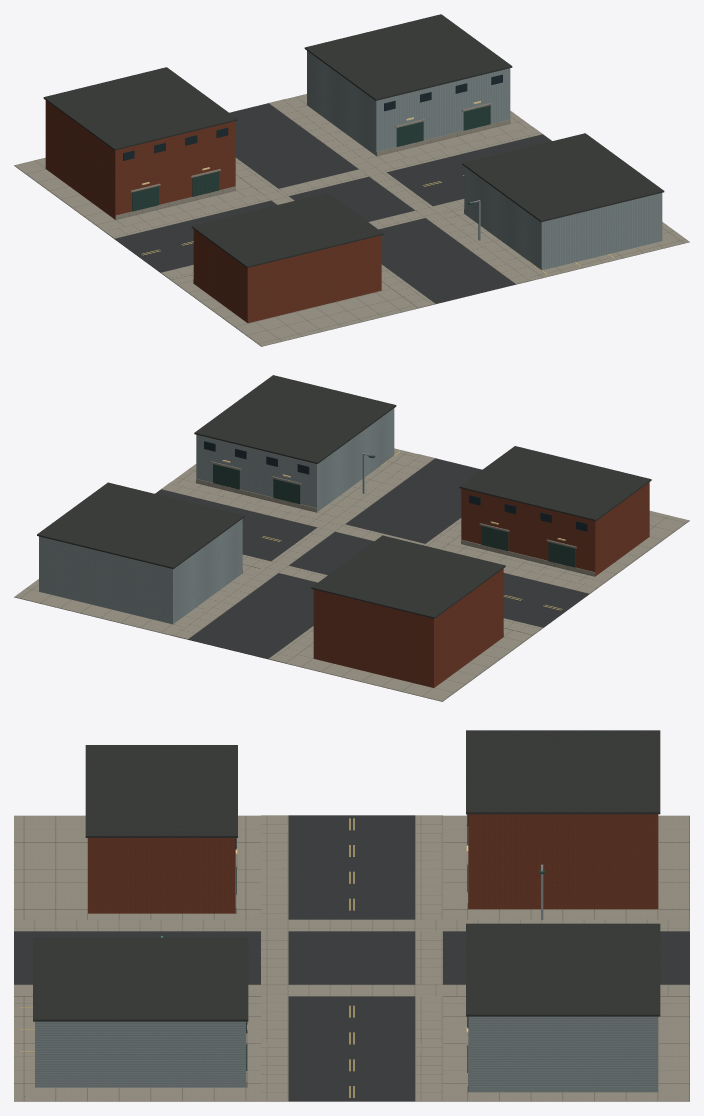
File: industrial_0_1.glb
3 renders of one model, top to bottom at view 1: azimuth 30°, elevation 25°; view 2: azimuth 150°, elevation 25°; view 3: azimuth 270°, elevation 25°, orthographic. The views are drawn at different scales.
Visible parts, largest first — view 1: Motor Works / North south street, Motor Works / Yard paving, Motor Works / Building 0 shell, Motor Works / Building 2 shell, Motor Works / Building 1 roof, Motor Works / Building 3 roof, Motor Works / Building 3 shell, Motor Works / Building 1 shell, Motor Works / Building 0 roof, Motor Works / Building 2 roof, Motor Works / East west street, Motor Works / Street walk X 1 (+9 smaller); view 2: Motor Works / North south street, Motor Works / Building 0 shell, Motor Works / Yard paving, Motor Works / Building 1 shell, Motor Works / Building 1 roof, Motor Works / Building 3 roof, Motor Works / Building 0 roof, Motor Works / Building 2 shell, Motor Works / Building 2 roof, Motor Works / Building 3 shell, Motor Works / East west street, Motor Works / Street walk X 1 (+9 smaller); view 3: Motor Works / Yard paving, Motor Works / East west street, Motor Works / Building 3 roof, Motor Works / Building 1 roof, Motor Works / Building 0 shell, Motor Works / Building 0 roof, Motor Works / Building 1 shell, Motor Works / Building 2 roof, Motor Works / Building 3 shell, Motor Works / North south street, Motor Works / Building 2 shell, Motor Works / Street walk Z -1 (+3 smaller).
Boxes of the visible parts, x1,y1,x2,y2 form: Motor Works / North south street: [229, 103, 515, 303]; Motor Works / Yard paving: [14, 94, 689, 346]; Motor Works / Building 0 shell: [45, 100, 235, 219]; Motor Works / Building 2 shell: [193, 229, 381, 323]; Motor Works / Building 1 roof: [304, 14, 512, 100]; Motor Works / Building 3 roof: [462, 133, 664, 222]; Motor Works / Building 3 shell: [464, 166, 662, 270]; Motor Works / Building 1 shell: [307, 51, 510, 155]; Motor Works / Building 0 roof: [43, 67, 237, 150]; Motor Works / Building 2 roof: [191, 193, 383, 267]; Motor Works / East west street: [115, 134, 552, 272]; Motor Works / Street walk X 1: [268, 99, 532, 284]; Motor Works / North south street: [188, 458, 481, 658]; Motor Works / Building 0 shell: [313, 568, 503, 687]; Motor Works / Yard paving: [14, 448, 689, 701]; Motor Works / Building 1 shell: [39, 519, 242, 624]; Motor Works / Building 1 roof: [37, 482, 244, 569]; Motor Works / Building 3 roof: [194, 375, 396, 463]; Motor Works / Building 0 roof: [311, 535, 505, 618]; Motor Works / Building 2 shell: [461, 482, 649, 576]; Motor Works / Building 2 roof: [459, 446, 651, 521]; Motor Works / Building 3 shell: [196, 408, 394, 511]; Motor Works / East west street: [155, 489, 588, 627]; Motor Works / Street walk X 1: [171, 454, 435, 639]; Motor Works / Yard paving: [14, 815, 689, 1101]; Motor Works / East west street: [288, 815, 415, 1101]; Motor Works / Building 3 roof: [33, 937, 248, 1021]; Motor Works / Building 1 roof: [466, 923, 660, 1016]; Motor Works / Building 0 shell: [468, 814, 658, 909]; Motor Works / Building 0 roof: [466, 730, 660, 814]; Motor Works / Building 1 shell: [468, 1016, 658, 1092]; Motor Works / Building 2 roof: [85, 745, 237, 837]; Motor Works / Building 3 shell: [35, 1021, 246, 1087]; Motor Works / North south street: [14, 931, 689, 984]; Motor Works / Building 2 shell: [88, 838, 235, 913]; Motor Works / Street walk Z -1: [415, 815, 442, 1100].
Bounding box in the file's own units: 64 × 10.26 × 64.
9 materials, 9 textured.
